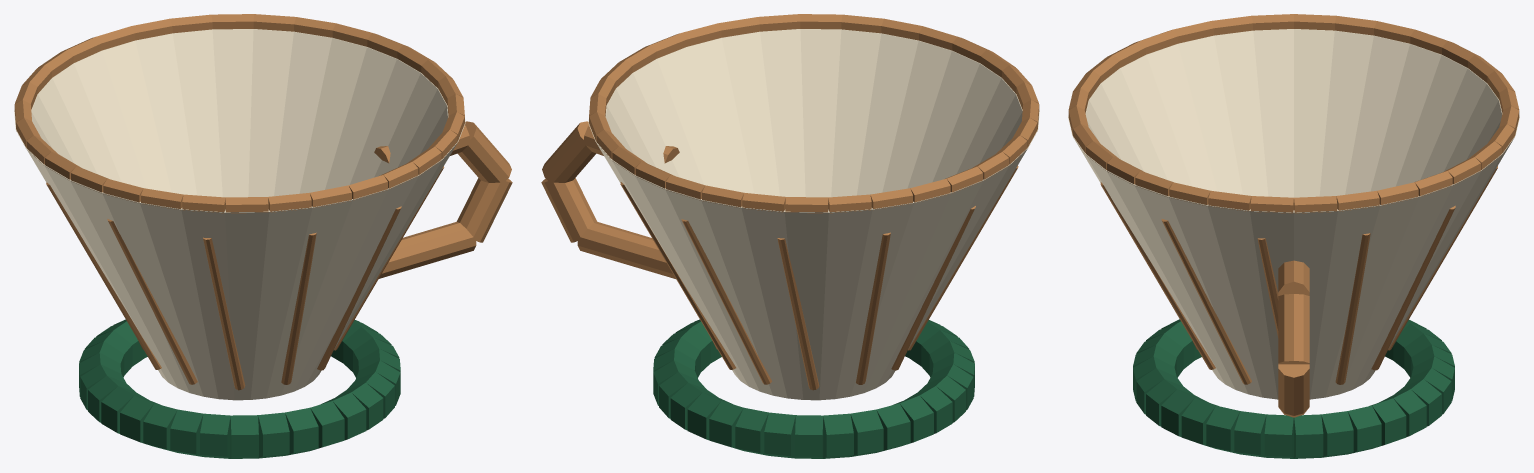
Rendered from dripper.glb.
3 renders of one model, left to right at view 1: azimuth 30°, elevation 25°; view 2: azimuth 150°, elevation 25°; view 3: azimuth 270°, elevation 25°, orthographic.
Visible parts, largest first — view 1: conical wall, handle3, handle2, handle1, flute40, flute30, flute50, support foot9, support foot11, support foot12, support foot10, support foot8 (+40 smaller); view 2: conical wall, handle3, handle2, handle1, flute80, flute70, flute90, support foot22, support foot20, support foot19, support foot21, support foot23 (+40 smaller); view 3: conical wall, handle1, handle2, flute110, flute10, support foot1, support foot30, support foot0, support foot31, support foot2, support foot29, flute100 (+42 smaller).
Boxes of the visible parts, x1,y1,x2,y2 form: conical wall: [14, 29, 465, 400]; handle3: [379, 221, 476, 278]; handle2: [457, 178, 512, 242]; handle1: [457, 121, 511, 183]; flute40: [203, 237, 245, 390]; flute30: [281, 232, 316, 384]; flute50: [107, 219, 197, 384]; support foot9: [258, 412, 289, 458]; support foot11: [200, 413, 230, 458]; support foot12: [170, 409, 203, 456]; support foot10: [230, 415, 258, 458]; support foot8: [285, 407, 318, 455]; conical wall: [588, 29, 1039, 400]; handle3: [577, 221, 675, 278]; handle2: [541, 178, 596, 242]; handle1: [542, 121, 596, 183]; flute80: [777, 238, 819, 390]; flute70: [856, 232, 890, 384]; flute90: [681, 219, 771, 384]; support foot22: [764, 412, 795, 458]; support foot20: [823, 413, 853, 458]; support foot19: [850, 409, 883, 456]; support foot21: [795, 415, 823, 458]; support foot23: [735, 407, 768, 455]; conical wall: [1068, 29, 1519, 399]; handle1: [1278, 294, 1309, 364]; handle2: [1278, 364, 1309, 415]; flute110: [1335, 233, 1370, 384]; flute10: [1161, 219, 1251, 384]; support foot1: [1234, 411, 1266, 457]; support foot30: [1321, 411, 1353, 457]; support foot0: [1264, 414, 1293, 458]; support foot31: [1294, 414, 1323, 458]; support foot2: [1206, 405, 1239, 454]; support foot29: [1348, 405, 1381, 454]; flute100: [1371, 205, 1455, 370].
Bounding box in the file's own units: 1.57 × 0.947 × 1.32.
